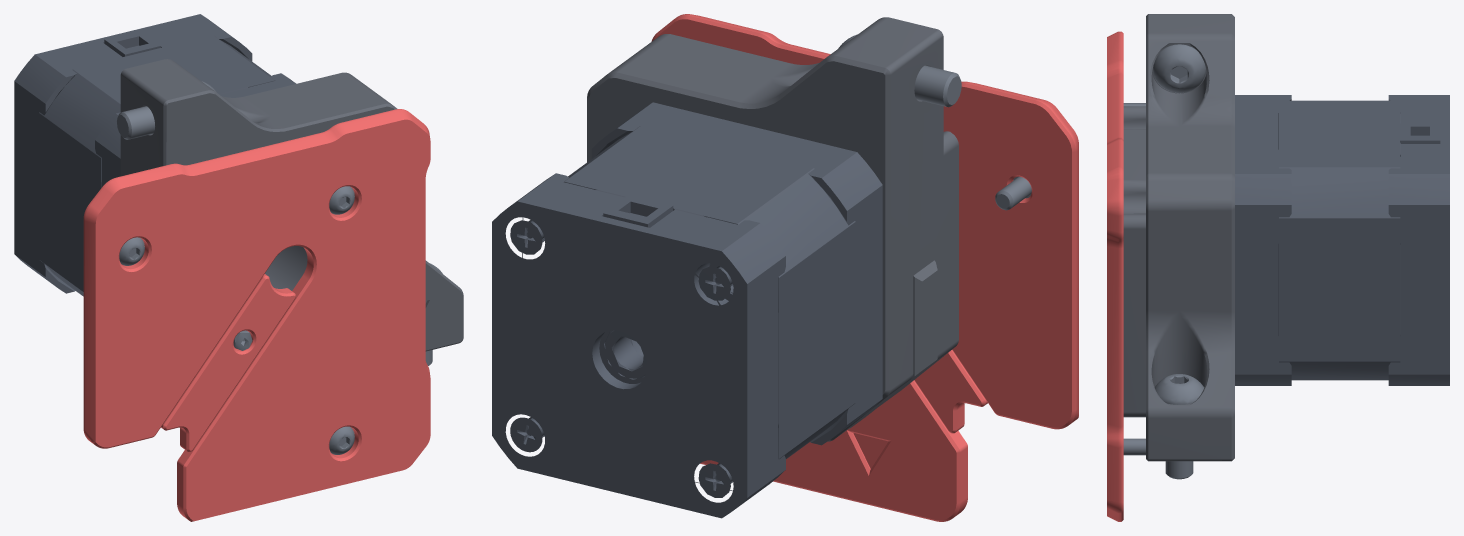
3 renders of one model, left to right at view 1: azimuth 30°, elevation 25°; view 2: azimuth 150°, elevation 25°; view 3: azimuth 270°, elevation 25°, orthographic. The views are drawn at different scales.
Parts seen in each view (by area): view 1: [a]_z_cover_left, motor_body, z_stepper_left, [a]_z_cover_left_14, m5x16_bhcs__6__10, m3x6_bhcs__1___2__7, m3x6_bhcs__1___2_, m3x6_bhcs__1___2__6; view 2: motor_body, [a]_z_cover_left, z_stepper_left, [a]_z_cover_left_14, m5x16_bhcs__6__10, m3x6_bhcs__1___2_; view 3: motor_body, z_stepper_left, [a]_z_cover_left, m5x16_bhcs__6__10, m5x16_bhcs__6_, m3x6_bhcs__1___2__6.
Part boxes in pixels (x1,y1,x2,y2): [a]_z_cover_left: (83,109,430,521); motor_body: (14,14,296,296); z_stepper_left: (120,59,463,351); [a]_z_cover_left_14: (161,274,295,451); m5x16_bhcs__6__10: (117,81,216,139); m3x6_bhcs__1___2__7: (329,186,354,214); m3x6_bhcs__1___2_: (119,237,144,265); m3x6_bhcs__1___2__6: (329,426,354,454); motor_body: (492,102,882,518); [a]_z_cover_left: (651,14,1078,521); z_stepper_left: (587,17,958,441); [a]_z_cover_left_14: (914,350,987,433); m5x16_bhcs__6__10: (838,34,961,107); m3x6_bhcs__1___2_: (995,176,1031,210); motor_body: (1235,95,1449,385); z_stepper_left: (1123,14,1234,461); [a]_z_cover_left: (1107,31,1123,521); m5x16_bhcs__6__10: (1153,44,1205,93); m5x16_bhcs__6_: (1154,374,1204,479); m3x6_bhcs__1___2__6: (1123,438,1145,455).
Size of the model in its own units: 0.08 by 0.08 by 0.0616.
